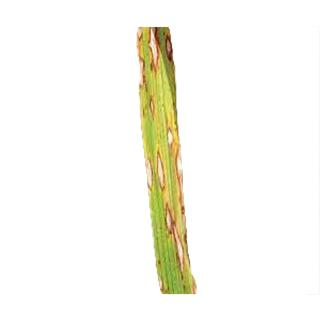Blast: (149, 154, 195, 278), (136, 136, 162, 198), (142, 28, 169, 78), (150, 252, 172, 293)
